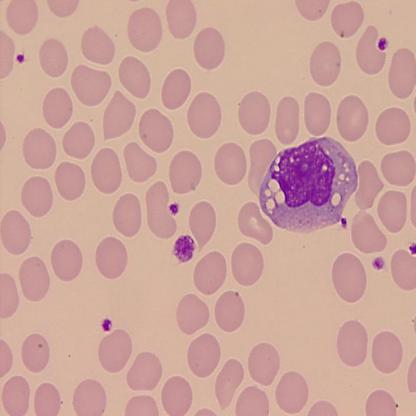Monocyte: (258, 134, 359, 234)
